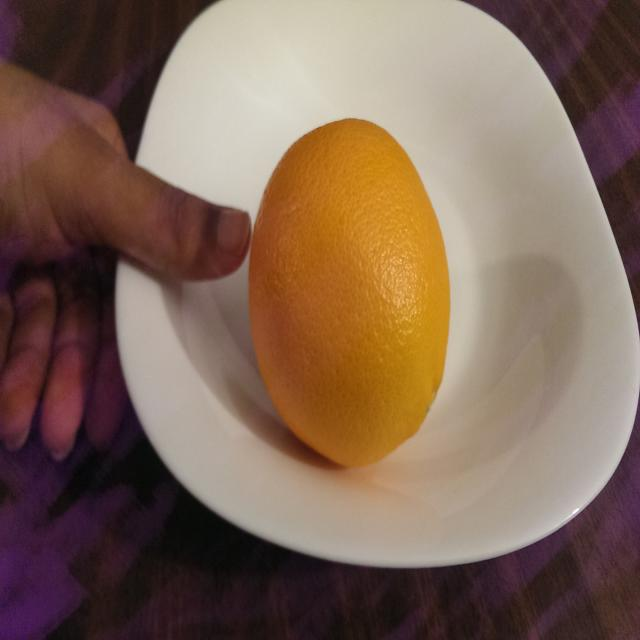orange: (247, 117, 451, 468)
